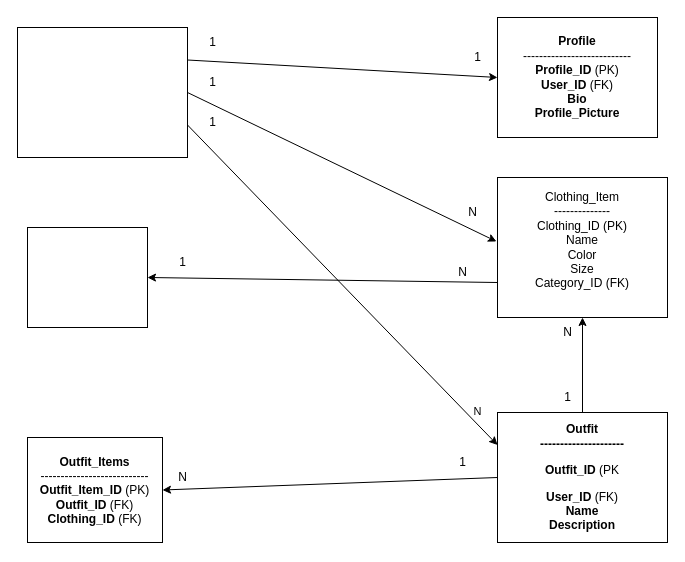
This 685x562 diagram has some shape labels left out. The box of each missing label's shape, as (x1, y1, x2, y2) in pixels:
Category --------- Category_ID (PK) Name: (26, 226, 148, 328)
User ----------- User_ID (PK) Name Email Password: (16, 26, 188, 158)
